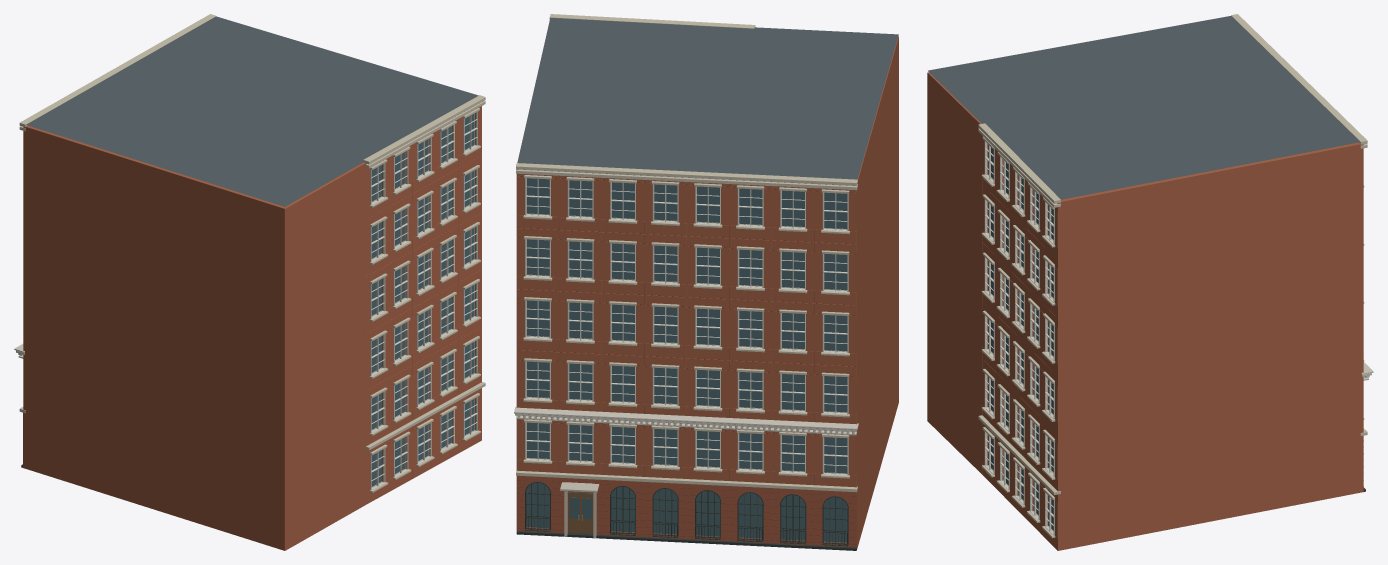
The model's file is sar-exterior-94fe96144ea0.glb.
3 renders of one model, left to right at view 1: azimuth 30°, elevation 25°; view 2: azimuth 150°, elevation 25°; view 3: azimuth 270°, elevation 25°, orthographic. The views are drawn at different scales.
Visible parts, largest first — view 1: SAR.001; view 2: SAR.001; view 3: SAR.001.
Part boxes in pixels (x1,y1,x2,y2): SAR.001: (14,14,485,550); SAR.001: (514,14,898,550); SAR.001: (927,14,1373,550).
Size of the model in its own units: 26.64 by 23.15 by 26.67.
